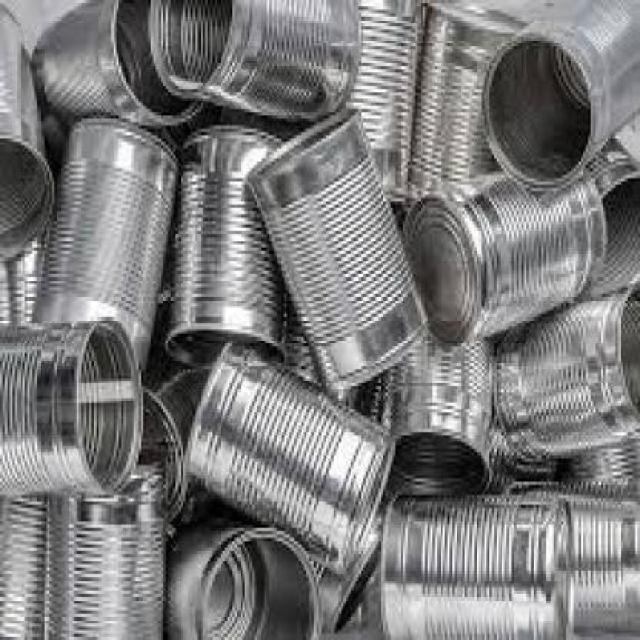METAL: (245, 103, 428, 400), (181, 340, 393, 574), (27, 112, 181, 376), (398, 165, 605, 340), (478, 0, 638, 192), (375, 489, 571, 636), (164, 119, 284, 356), (144, 0, 362, 123), (492, 277, 638, 458), (0, 313, 138, 494), (356, 323, 489, 492), (410, 0, 524, 185), (45, 465, 163, 637), (29, 0, 200, 118), (508, 475, 638, 630), (166, 521, 320, 637), (340, 1, 422, 194), (0, 3, 55, 261), (580, 135, 638, 294), (316, 498, 381, 637), (1, 495, 47, 637), (136, 383, 182, 522), (154, 360, 212, 452), (276, 274, 319, 389), (0, 231, 43, 331), (568, 435, 638, 488), (492, 452, 553, 478)
